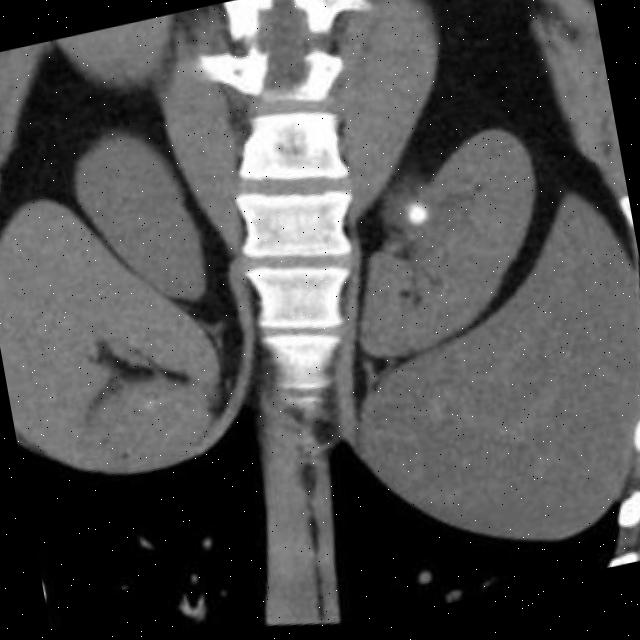Tas_Var: (398, 198, 440, 242)
